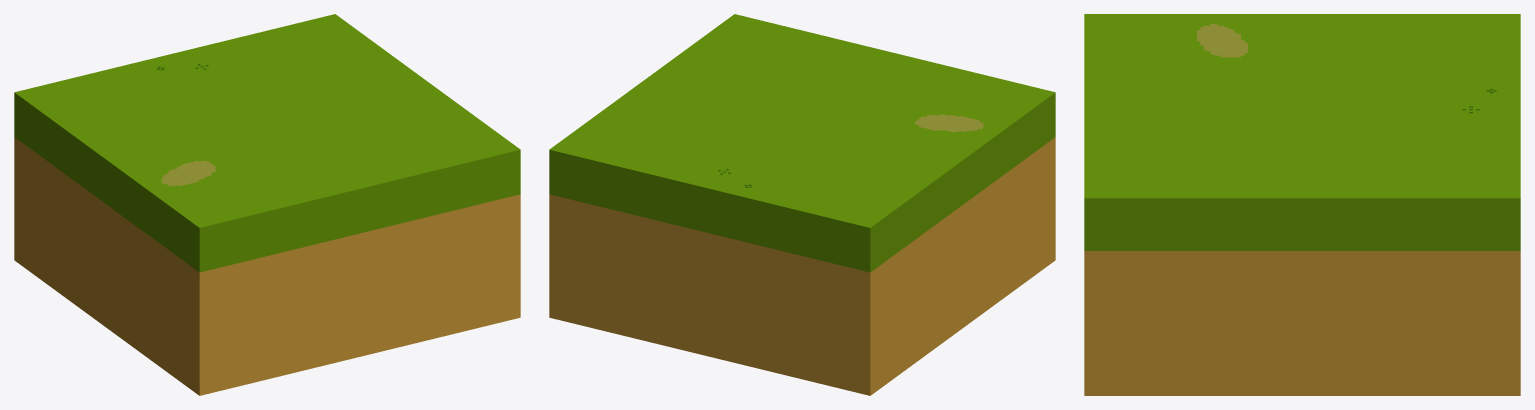
The picture shows the model from 3 angles, left to right: view 1: azimuth 30°, elevation 25°; view 2: azimuth 150°, elevation 25°; view 3: azimuth 270°, elevation 25°; orthographic projection. The views are drawn at different scales.
Visible parts, largest first — view 1: 10M; view 2: 10M; view 3: 10M.
Part boxes in pixels (<box>): 10M: <box>14,14,520,395</box>; 10M: <box>549,14,1055,395</box>; 10M: <box>1084,14,1520,395</box>.
Bounding box in the file's own units: 12.8 × 6.4 × 12.8.
1 material, 1 textured.
